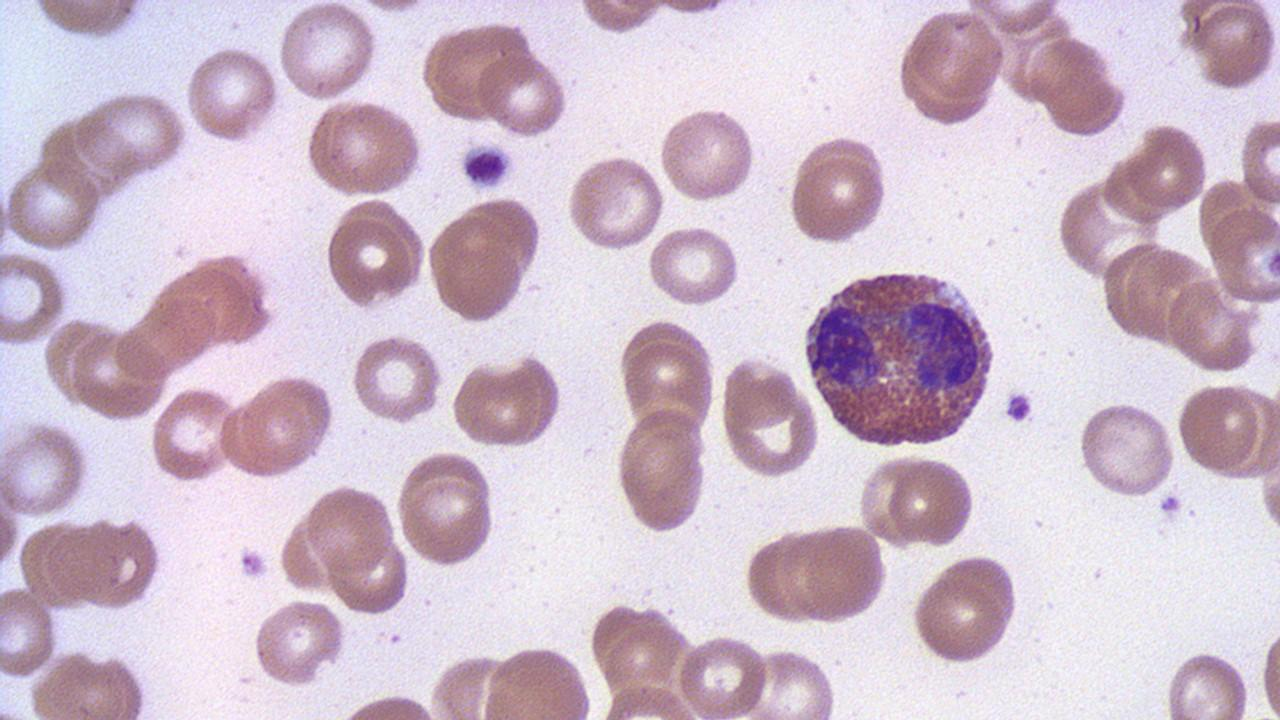Platelets: (456, 143, 516, 190), (1002, 387, 1036, 426), (237, 545, 270, 583)
RBC: (426, 193, 546, 327), (910, 552, 1021, 668), (419, 18, 538, 126), (718, 357, 822, 480), (785, 133, 892, 248), (304, 99, 426, 199), (321, 199, 428, 313), (614, 408, 710, 535), (396, 452, 498, 571), (620, 320, 717, 443), (780, 520, 891, 625), (448, 353, 566, 450), (156, 256, 276, 350), (274, 1, 379, 104), (1116, 244, 1218, 349), (73, 87, 189, 178), (238, 372, 339, 476), (657, 103, 759, 205), (564, 153, 665, 254), (1163, 276, 1263, 374), (1077, 400, 1177, 498), (184, 43, 280, 145), (1, 160, 104, 254), (147, 384, 242, 484), (910, 5, 1007, 101), (69, 331, 170, 422), (349, 332, 445, 426), (252, 595, 347, 689), (304, 482, 397, 578), (0, 420, 91, 518), (476, 48, 572, 139), (1176, 380, 1264, 479), (26, 649, 151, 718), (644, 223, 744, 309), (480, 644, 593, 717), (78, 514, 162, 612), (894, 454, 978, 552), (676, 632, 773, 716), (742, 528, 818, 628), (1208, 203, 1280, 306), (1196, 2, 1278, 92), (1128, 122, 1208, 213), (0, 248, 69, 348), (858, 452, 928, 550), (49, 516, 123, 607), (748, 644, 838, 718), (1162, 646, 1252, 720), (328, 536, 410, 616), (1039, 69, 1129, 138), (1220, 382, 1280, 484), (0, 584, 60, 680), (29, 1, 149, 39), (1237, 111, 1279, 210), (962, 0, 1066, 34), (574, 0, 668, 36), (1256, 421, 1280, 545), (1255, 610, 1279, 720)
WBC: (0, 0, 470, 365), (801, 260, 1003, 453)
